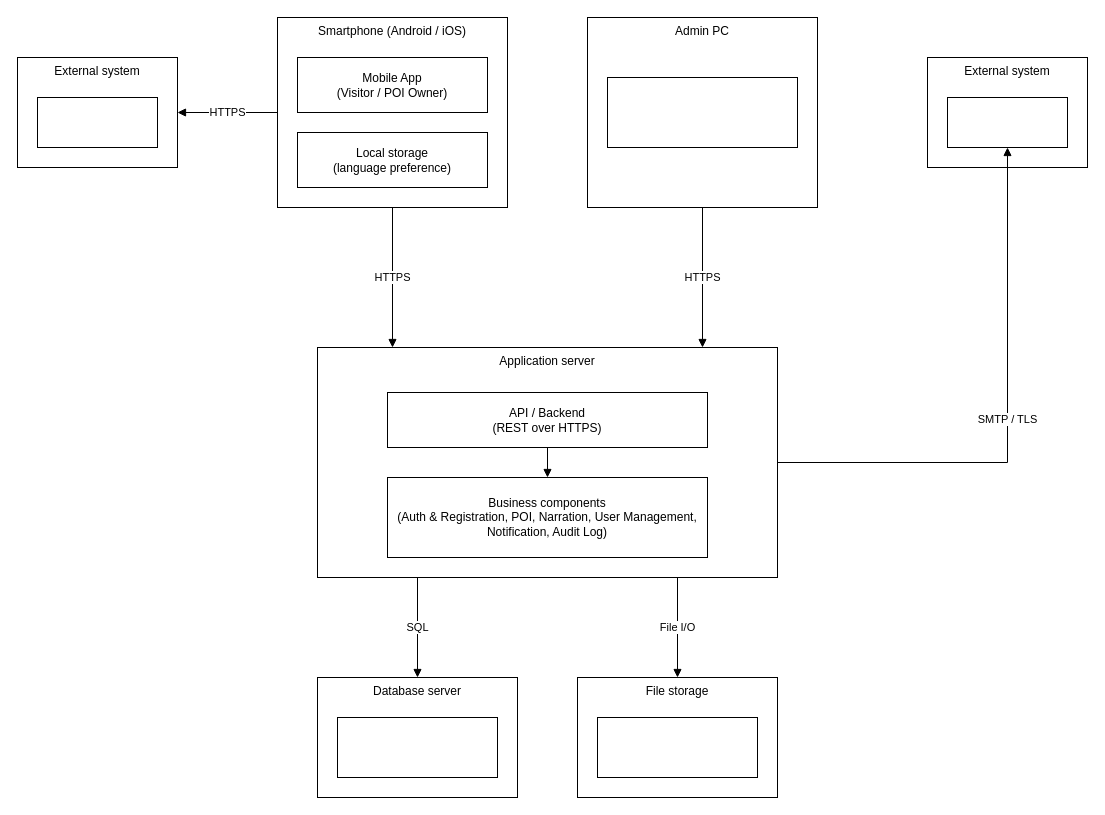
The diagram is 1105 pixels wide and 815 high, and some of its shapes have lost their labels. Here are the shapes that lost their labels. From the top down, the centre of each, then its label:
At (x=97, y=122): "Map Provider API".
At (x=702, y=112): "Admin Web Portal (Web browser)".
At (x=1007, y=122): "Email server (SMTP)".
At (x=417, y=747): "Relational database (users, POIs, logs, ...)".
At (x=677, y=747): "Audio / media files".
